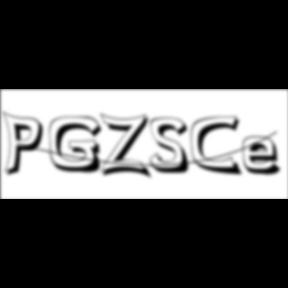C: (190, 115, 246, 178)
G: (50, 116, 109, 176)
P: (2, 110, 50, 180)
S: (150, 117, 196, 176)
Z: (100, 112, 154, 181)
e: (242, 135, 288, 178)
